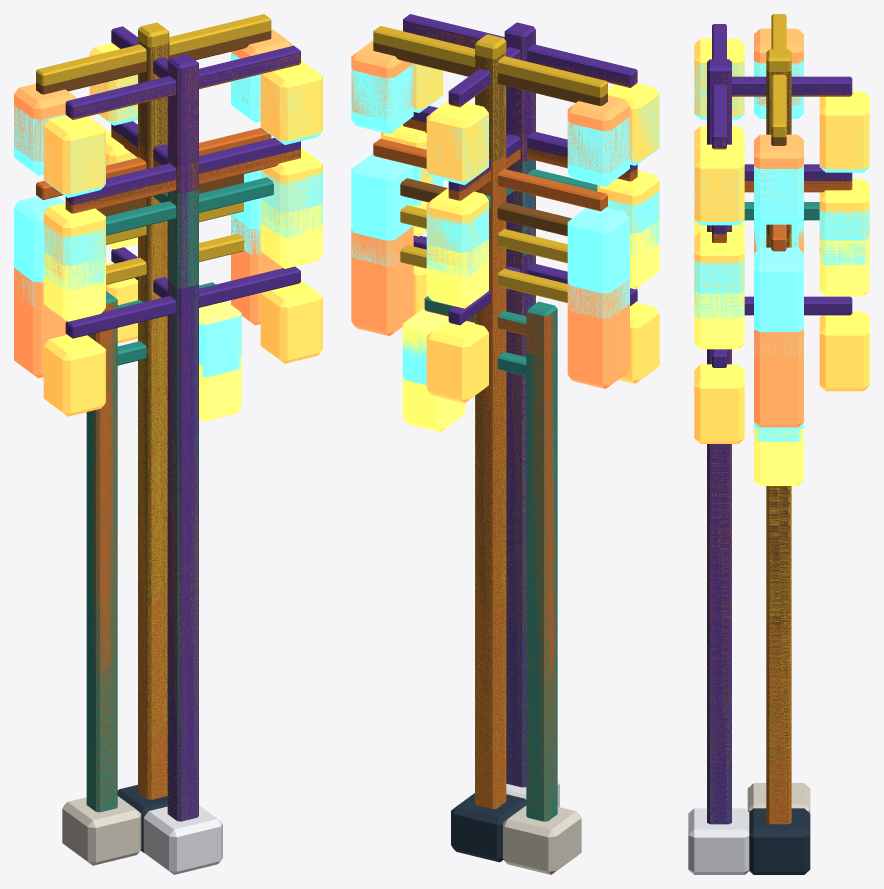
The model's file is flagship_props_014.glb.
3 views of the same model, side by side, from view 1: azimuth 30°, elevation 25°; view 2: azimuth 150°, elevation 25°; view 3: azimuth 270°, elevation 25° (orthographic).
Visible parts, largest first — view 1: Prop_BBIsle_Lamp_02, Prop_BBIsle_Lamp_05, Prop_BBIsle_Lamp_03, Prop_BBIsle_Lamp_07, Prop_BBIsle_Lamp_10, Prop_BBIsle_Lamp_14, Prop_BBIsle_Lamp_04, Prop_BBIsle_Lamp_06, Prop_BBIsle_Lamp_13, Prop_BBIsle_Lamp_17, Prop_BBIsle_Lamp_12, Prop_BBIsle_Lamp_08 (+5 smaller); view 2: Prop_BBIsle_Lamp_03, Prop_BBIsle_Lamp_06, Prop_BBIsle_Lamp_07, Prop_BBIsle_Lamp_02, Prop_BBIsle_Lamp_10, Prop_BBIsle_Lamp_14, Prop_BBIsle_Lamp_13, Prop_BBIsle_Lamp_04, Prop_BBIsle_Lamp_17, Prop_BBIsle_Lamp_15, Prop_BBIsle_Lamp_11, Prop_BBIsle_Lamp_05 (+5 smaller); view 3: Prop_BBIsle_Lamp_02, Prop_BBIsle_Lamp_03, Prop_BBIsle_Lamp_07, Prop_BBIsle_Lamp_17, Prop_BBIsle_Lamp_04, Prop_BBIsle_Lamp_05, Prop_BBIsle_Lamp_14, Prop_BBIsle_Lamp_08, Prop_BBIsle_Lamp_12, Prop_BBIsle_Lamp_11, Prop_BBIsle_Lamp_06, Prop_BBIsle_Lamp_16 (+4 smaller).
Boxes of the visible parts, x1=… form: Prop_BBIsle_Lamp_02: x1=43, y1=247, x2=322, y2=874; Prop_BBIsle_Lamp_05: x1=43, y1=177, x2=322, y2=821; Prop_BBIsle_Lamp_03: x1=14, y1=127, x2=271, y2=852; Prop_BBIsle_Lamp_07: x1=43, y1=32, x2=322, y2=820; Prop_BBIsle_Lamp_10: x1=62, y1=341, x2=241, y2=865; Prop_BBIsle_Lamp_14: x1=14, y1=14, x2=293, y2=795; Prop_BBIsle_Lamp_04: x1=14, y1=202, x2=282, y2=799; Prop_BBIsle_Lamp_06: x1=14, y1=30, x2=271, y2=799; Prop_BBIsle_Lamp_13: x1=86, y1=300, x2=241, y2=811; Prop_BBIsle_Lamp_17: x1=43, y1=26, x2=322, y2=815; Prop_BBIsle_Lamp_12: x1=43, y1=121, x2=322, y2=820; Prop_BBIsle_Lamp_08: x1=43, y1=129, x2=322, y2=819; Prop_BBIsle_Lamp_03: x1=351, y1=138, x2=629, y2=862; Prop_BBIsle_Lamp_06: x1=351, y1=42, x2=629, y2=808; Prop_BBIsle_Lamp_07: x1=403, y1=21, x2=659, y2=785; Prop_BBIsle_Lamp_02: x1=413, y1=235, x2=659, y2=806; Prop_BBIsle_Lamp_10: x1=402, y1=352, x2=581, y2=874; Prop_BBIsle_Lamp_14: x1=351, y1=26, x2=629, y2=804; Prop_BBIsle_Lamp_13: x1=402, y1=299, x2=557, y2=820; Prop_BBIsle_Lamp_04: x1=351, y1=205, x2=629, y2=808; Prop_BBIsle_Lamp_17: x1=400, y1=14, x2=659, y2=785; Prop_BBIsle_Lamp_15: x1=402, y1=296, x2=557, y2=821; Prop_BBIsle_Lamp_11: x1=351, y1=178, x2=629, y2=804; Prop_BBIsle_Lamp_05: x1=413, y1=159, x2=659, y2=786; Prop_BBIsle_Lamp_02: x1=688, y1=296, x2=869, y2=874; Prop_BBIsle_Lamp_03: x1=749, y1=224, x2=810, y2=874; Prop_BBIsle_Lamp_07: x1=694, y1=61, x2=869, y2=823; Prop_BBIsle_Lamp_17: x1=694, y1=24, x2=869, y2=813; Prop_BBIsle_Lamp_04: x1=754, y1=228, x2=803, y2=823; Prop_BBIsle_Lamp_05: x1=694, y1=202, x2=869, y2=824; Prop_BBIsle_Lamp_14: x1=754, y1=14, x2=803, y2=822; Prop_BBIsle_Lamp_08: x1=694, y1=180, x2=869, y2=823; Prop_BBIsle_Lamp_12: x1=694, y1=126, x2=869, y2=821; Prop_BBIsle_Lamp_11: x1=754, y1=220, x2=803, y2=823; Prop_BBIsle_Lamp_06: x1=754, y1=61, x2=803, y2=824; Prop_BBIsle_Lamp_16: x1=694, y1=177, x2=868, y2=824.
Size of the model in its own units: 1.2 by 3.57 by 0.725.
